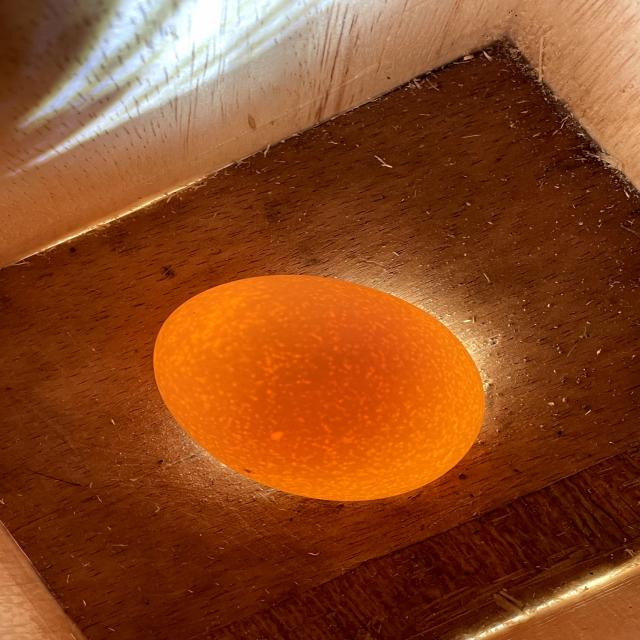infertile: (153, 275, 485, 501)
